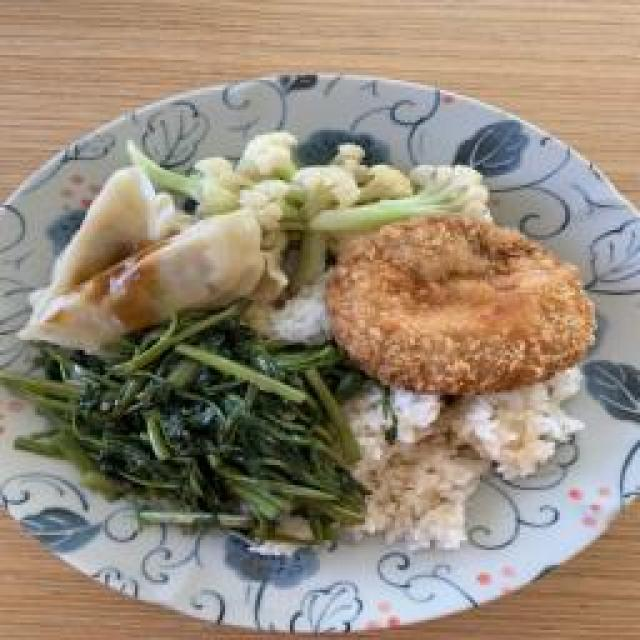Wet Waste: (37, 320, 335, 530), (18, 165, 262, 355), (350, 385, 570, 547)
